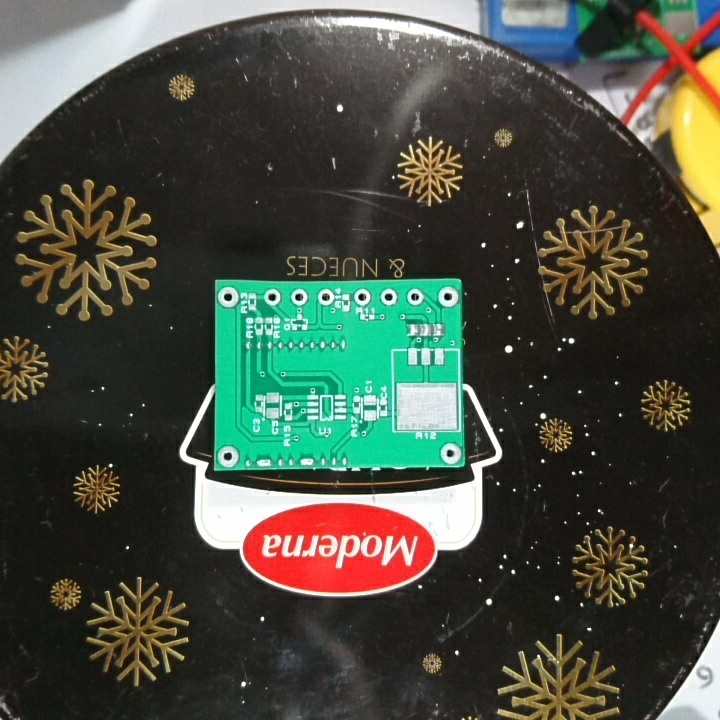F: (214, 443, 242, 471), (217, 283, 239, 312), (438, 440, 462, 466), (436, 285, 459, 310), (288, 286, 309, 309), (262, 287, 283, 309), (352, 286, 373, 306), (405, 287, 425, 306), (379, 287, 397, 307), (317, 286, 334, 307)
P: (254, 455, 276, 469), (297, 455, 317, 469)
